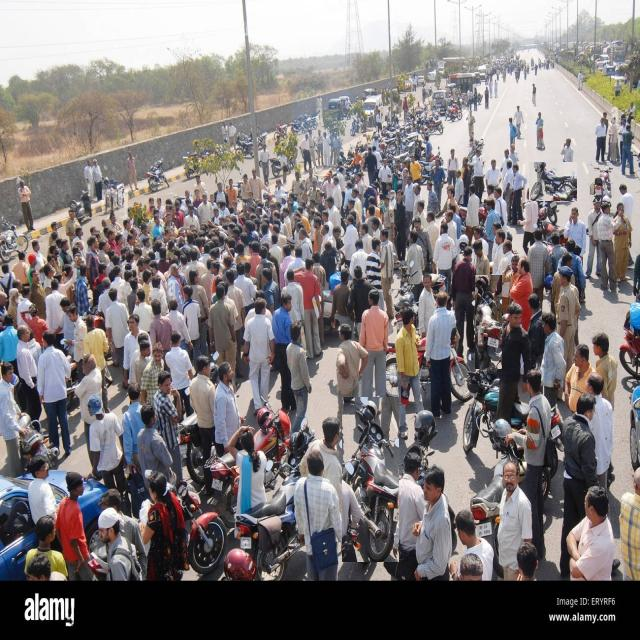motorcycle: (235, 420, 314, 581), (342, 398, 399, 562), (471, 420, 525, 578), (462, 367, 499, 454), (475, 276, 502, 369), (530, 163, 577, 201), (590, 167, 613, 202), (339, 438, 346, 449)
